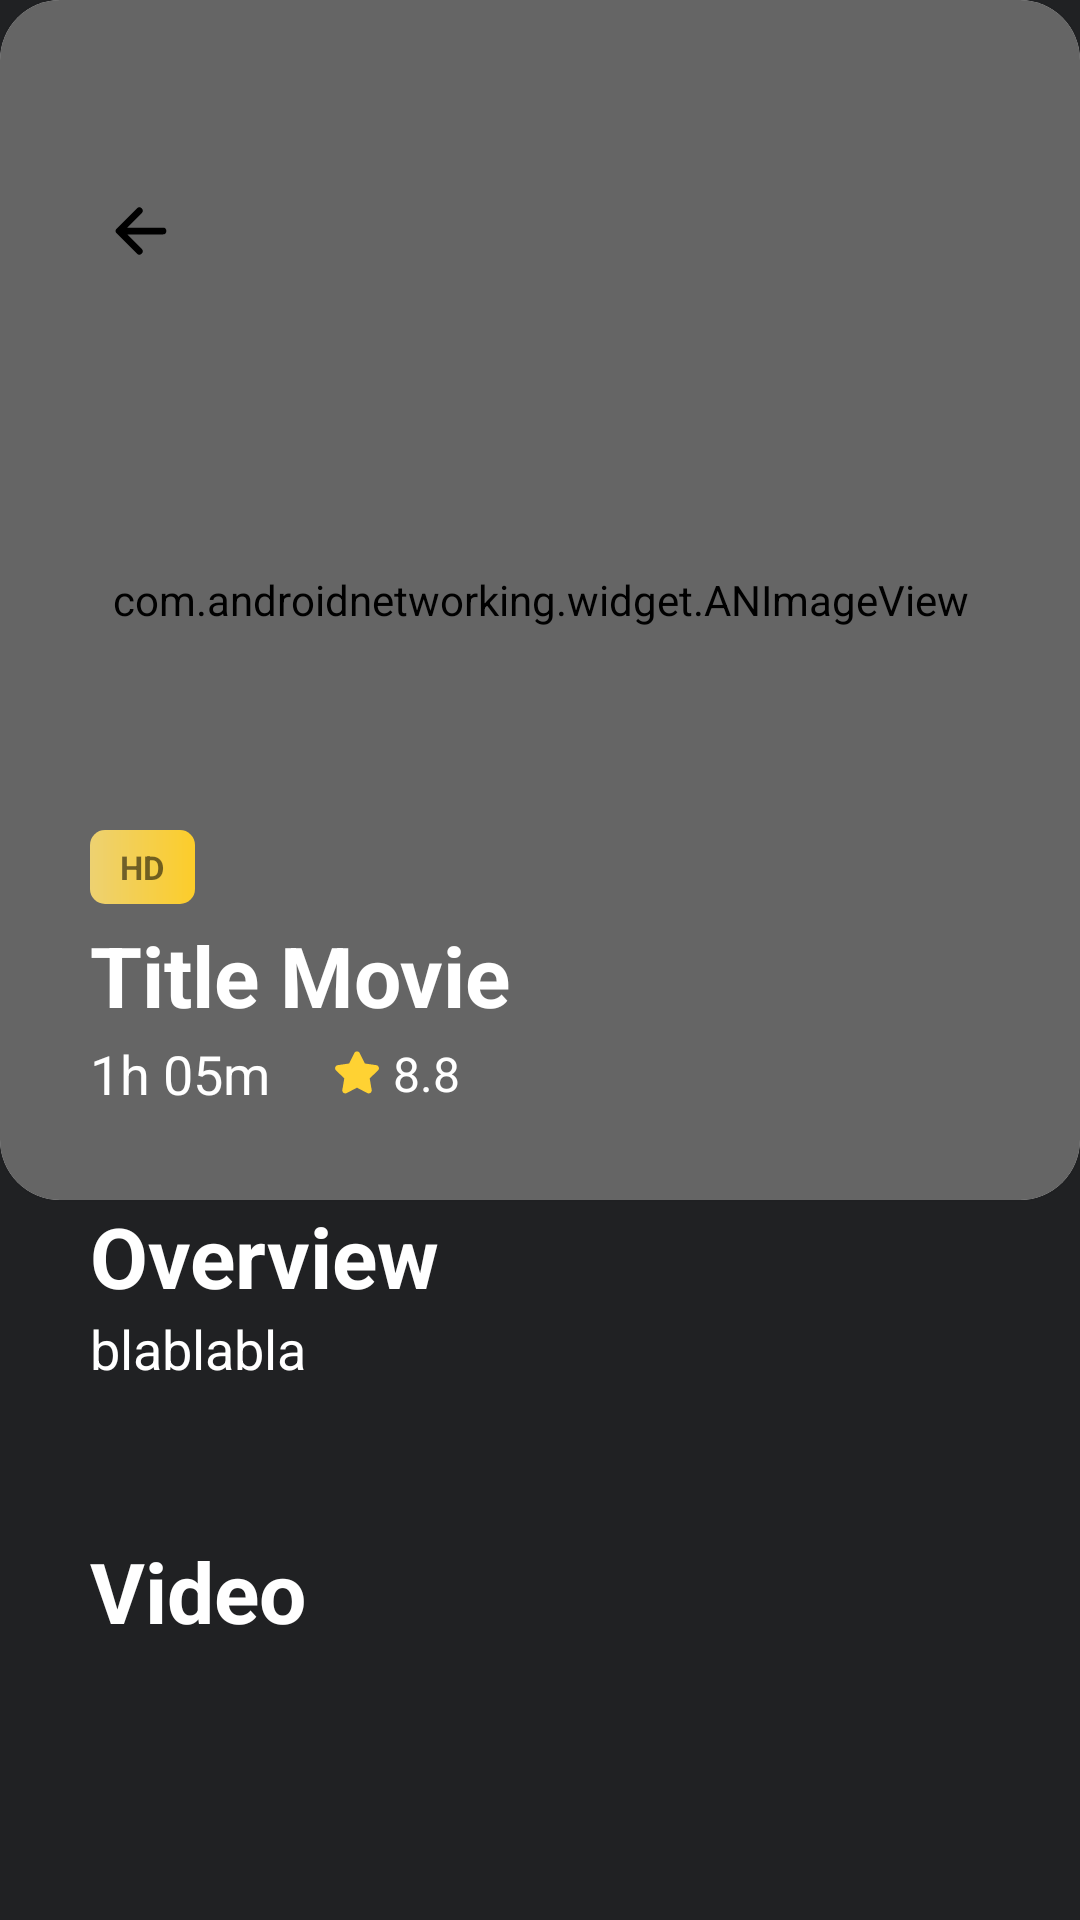

Icon click points for this 1080 × 1920 phone screenshot, format (x=x, y=y):
back: (x=141, y=231)
star: (x=357, y=1072)
